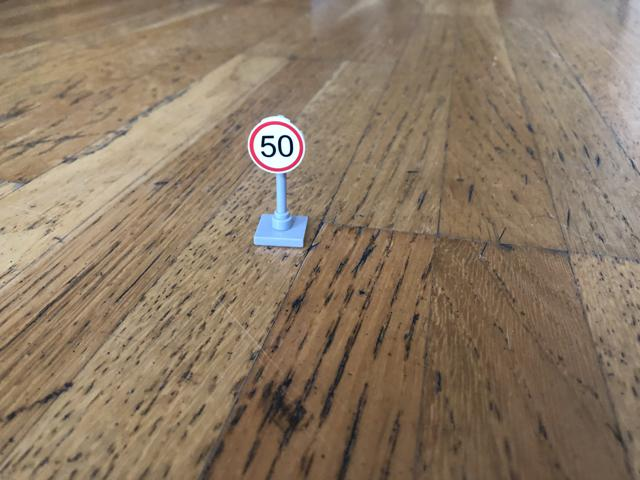tempolimit 50: (247, 117, 306, 175)
